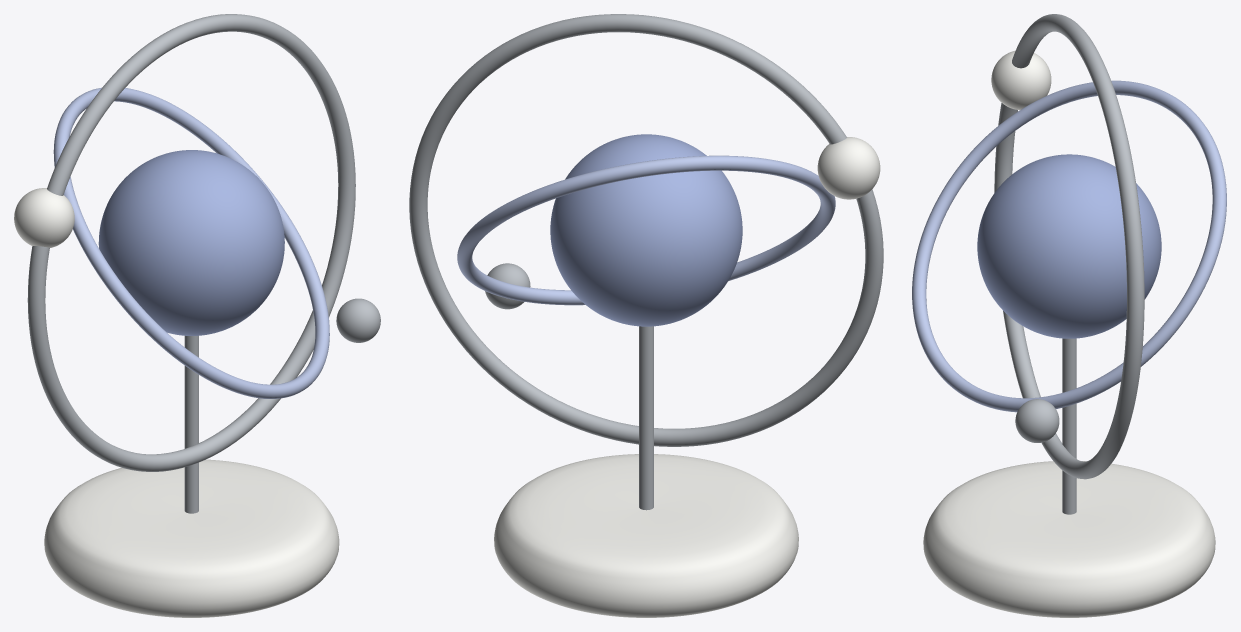
The model's file is orbit-sculpture.glb.
3 views of the same model, side by side, from view 1: azimuth 30°, elevation 25°; view 2: azimuth 150°, elevation 25°; view 3: azimuth 270°, elevation 25° (orthographic). The views are drawn at different scales.
Parts seen in each view (by area): view 1: sculpted-surface, outer-orbital-ring-/-inner-orbital-ring-/-orbiting-satellite (×4), polished-central-sphere-005, turned-ceramic-plinth-002; view 2: sculpted-surface, outer-orbital-ring-/-inner-orbital-ring-/-orbiting-satellite (×4), polished-central-sphere-005, turned-ceramic-plinth-002; view 3: sculpted-surface, outer-orbital-ring-/-inner-orbital-ring-/-orbiting-satellite (×4), polished-central-sphere-005, turned-ceramic-plinth-002.
Boxes of the visible parts, x1,y1,x2,y2 form: sculpted-surface: (44, 459, 339, 617); outer-orbital-ring-/-inner-orbital-ring-/-orbiting-satellite (×4): (14, 14, 380, 471); polished-central-sphere-005: (98, 150, 284, 335); turned-ceramic-plinth-002: (184, 335, 198, 513); sculpted-surface: (494, 454, 798, 617); outer-orbital-ring-/-inner-orbital-ring-/-orbiting-satellite (×4): (409, 14, 883, 446); polished-central-sphere-005: (550, 134, 742, 326); turned-ceramic-plinth-002: (639, 326, 653, 510); sculpted-surface: (923, 461, 1215, 617); outer-orbital-ring-/-inner-orbital-ring-/-orbiting-satellite (×4): (912, 14, 1226, 479); polished-central-sphere-005: (977, 154, 1161, 338); turned-ceramic-plinth-002: (1062, 338, 1076, 514).
Size of the model in its own units: 1.54 by 2 by 1.08.
